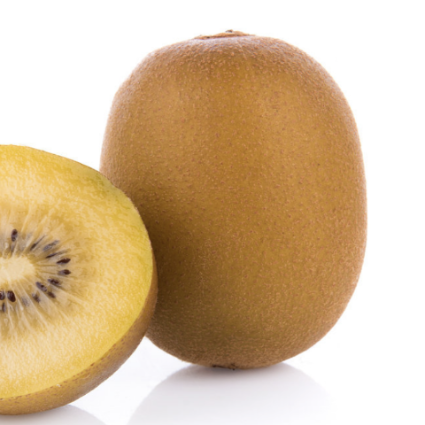kiwi: (55, 17, 418, 408)
